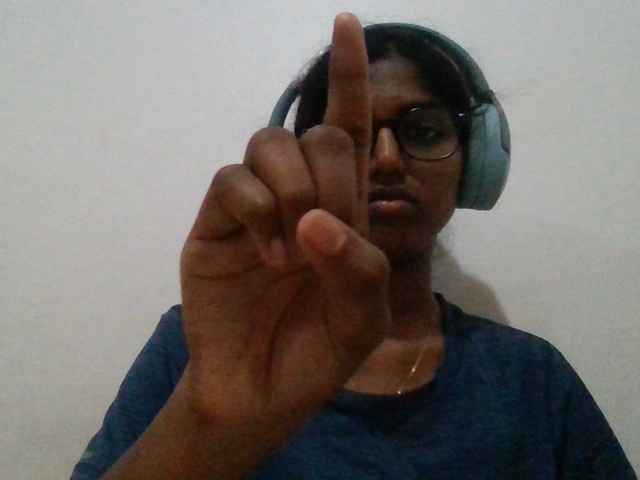D: (146, 9, 413, 465)
